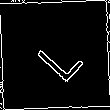L_NW: (26, 26, 84, 84)
